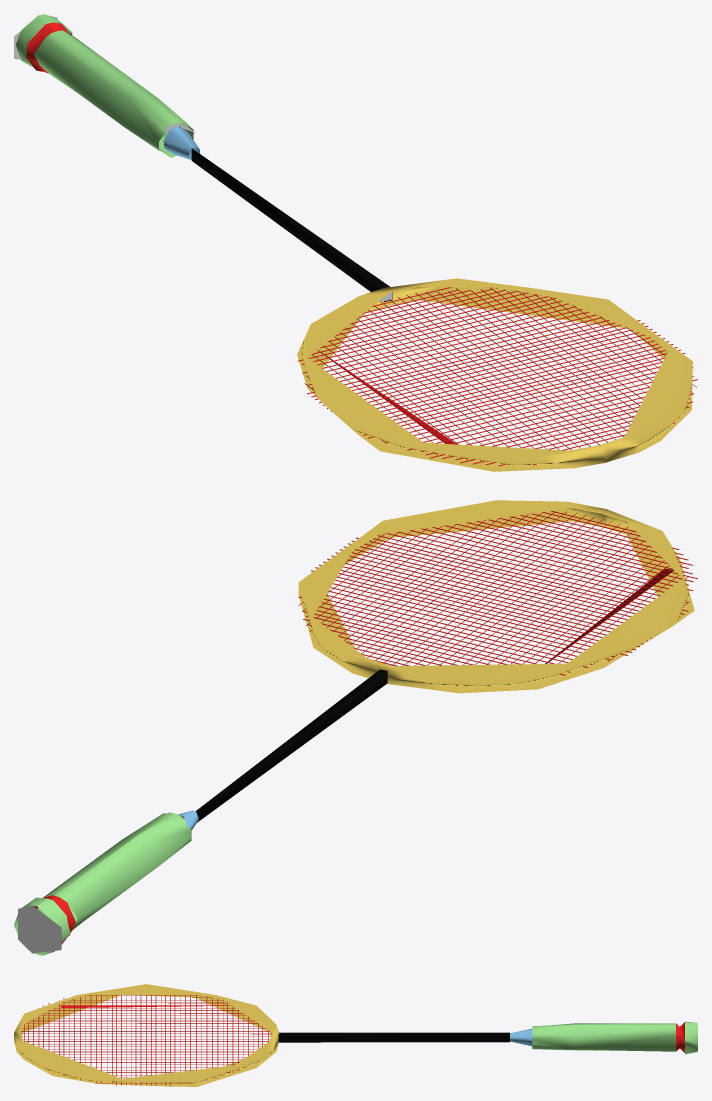
File: realbadminton.glb
3 views of the same model, one above another, from view 1: azimuth 30°, elevation 25°; view 2: azimuth 150°, elevation 25°; view 3: azimuth 270°, elevation 25° (orthographic). The views are drawn at different scales.
Parts seen in each view (by area): view 1: Cylinder.025_2; view 2: Cylinder.025_2; view 3: Cylinder.025_2.
Part boxes in pixels (x1=…): Cylinder.025_2: x1=14, y1=14, x2=697, y2=471; Cylinder.025_2: x1=14, y1=500, x2=697, y2=955; Cylinder.025_2: x1=14, y1=984, x2=697, y2=1086.
Size of the model in its own units: 0.2255 by 0.0315 by 0.67.
